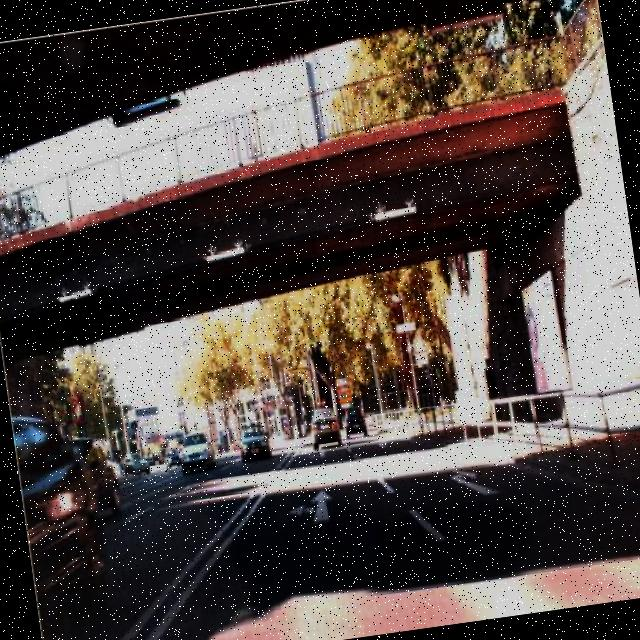Ustap pierwszenstwa: (410, 330, 430, 358)
